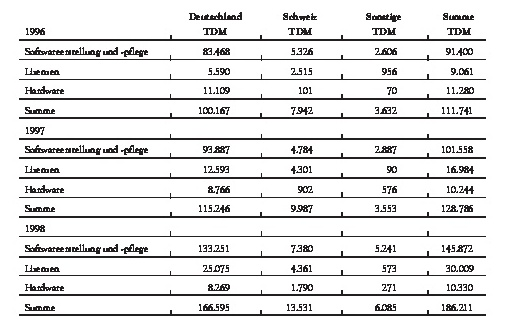table: (0, 0, 509, 336)
